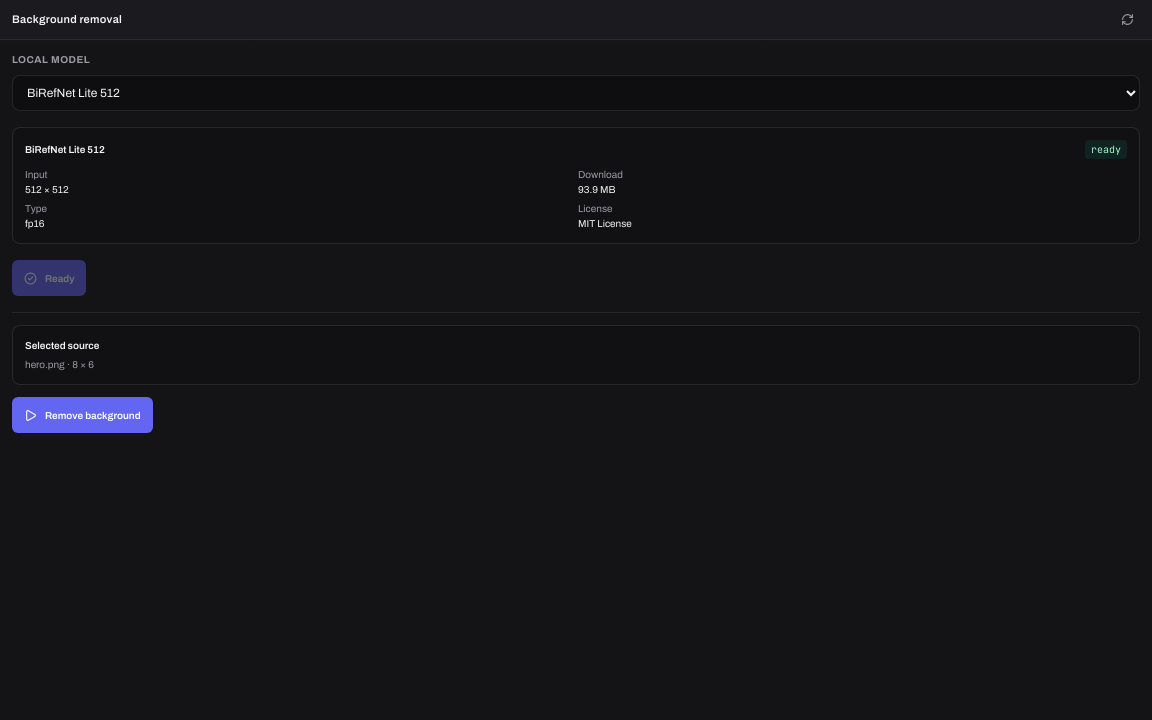
LocalModelPanel › keeps inference progress live after the StrictMode effect probe
Step 1. Click the button "Remove background" → (82, 415), box [12,397,153,433]
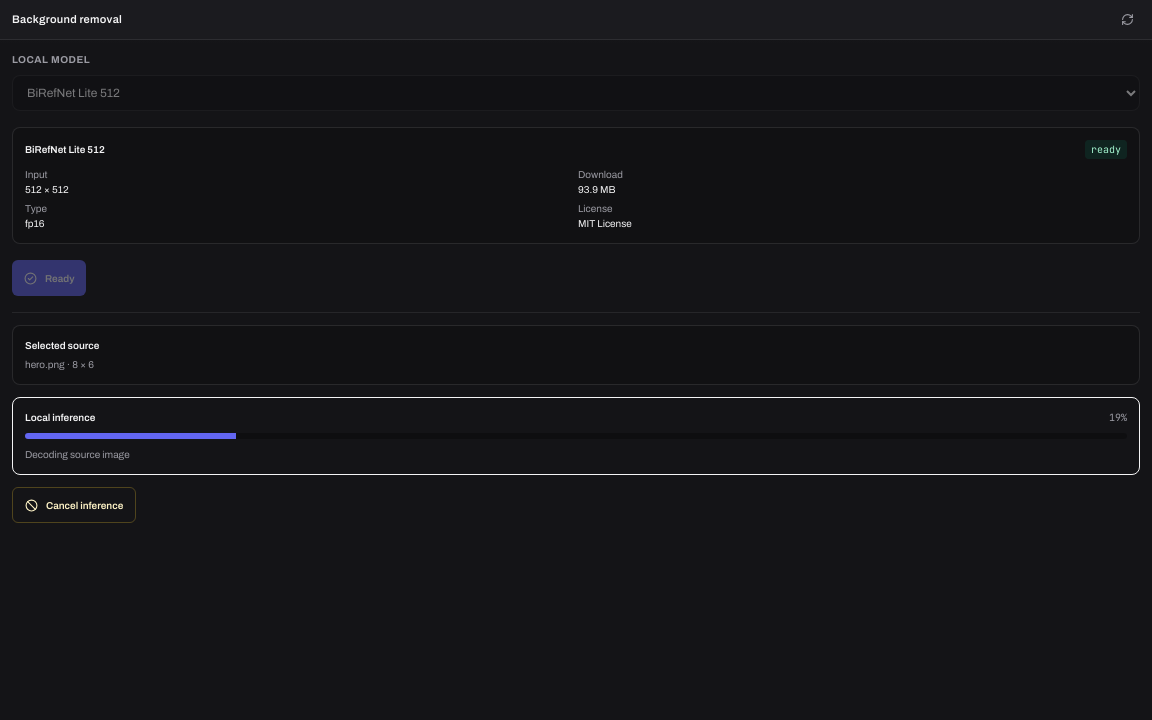
Result: the text "Decoding source image" is shown at [25,449,130,460]
